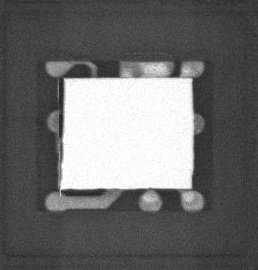DIE_BROKEN: (56, 75, 66, 184)
